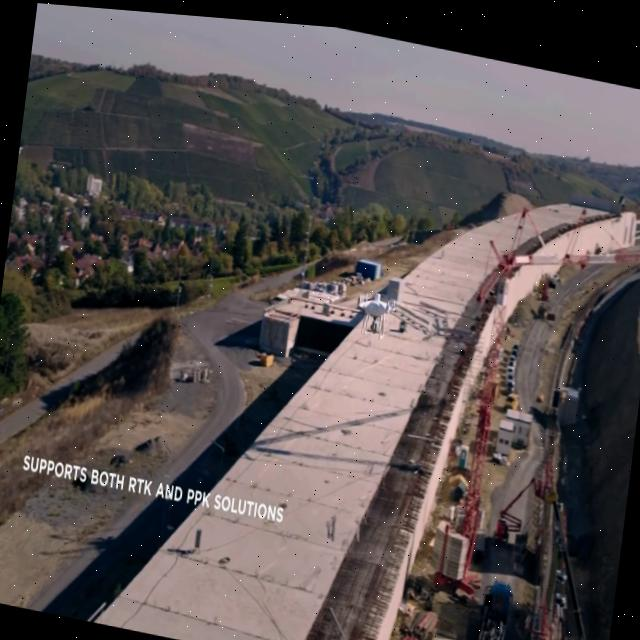drone: (349, 277, 399, 336)
